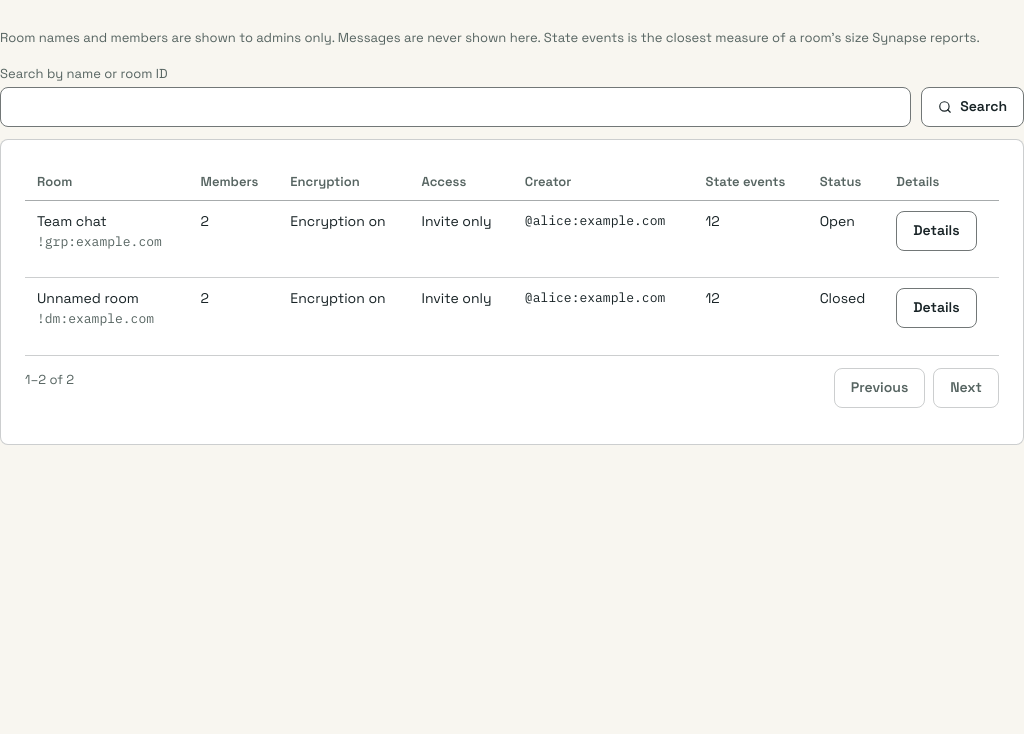
Test: Rooms › shows and follows the running job after a refused change
The image size is (1024, 734).
Click the button with aria-label "Details for Team chat" at (936,230), box [896,210,977,250]
(page scrolled)
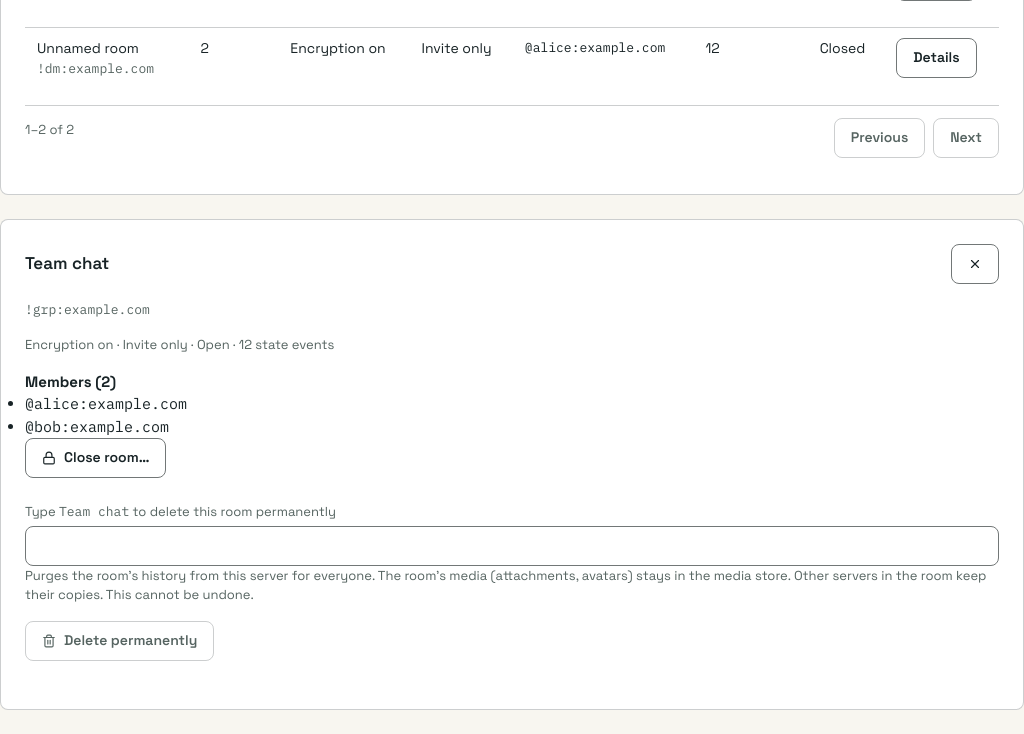
Check: the list named "Members" is shown, box [25,394,187,436]
Type "Team chat" into the field labelled "Type Team chat to delete this room permanently" at (512,546), box [25,526,999,566]
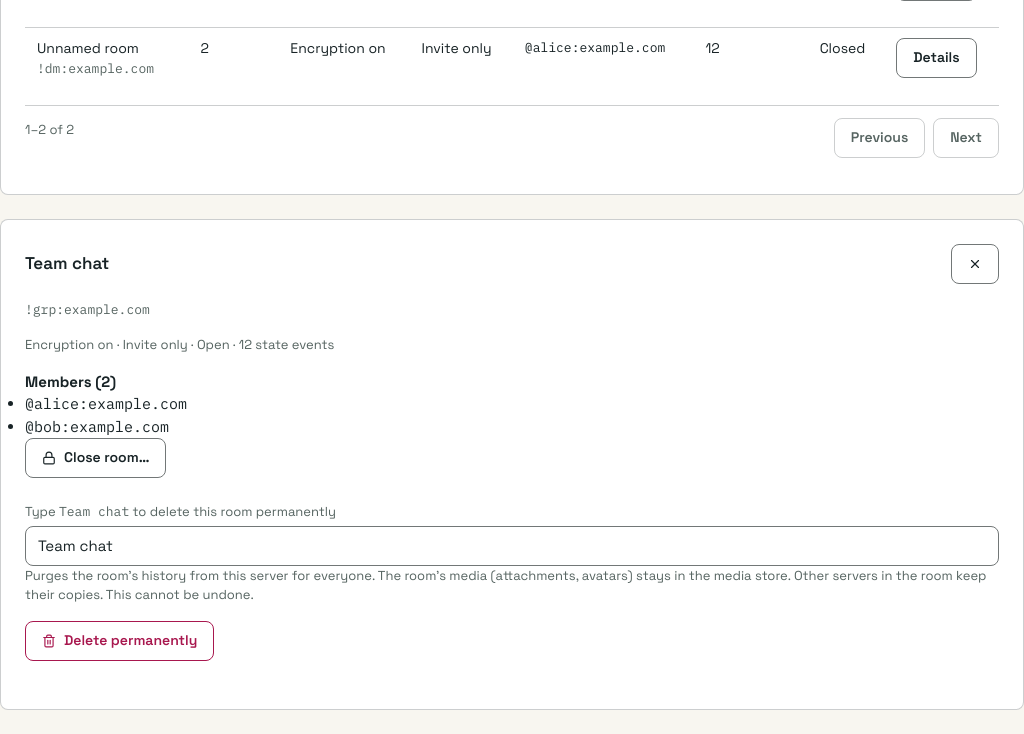
Click the button "Delete permanently" at (120,640), box [25,620,214,660]
(page scrolled)
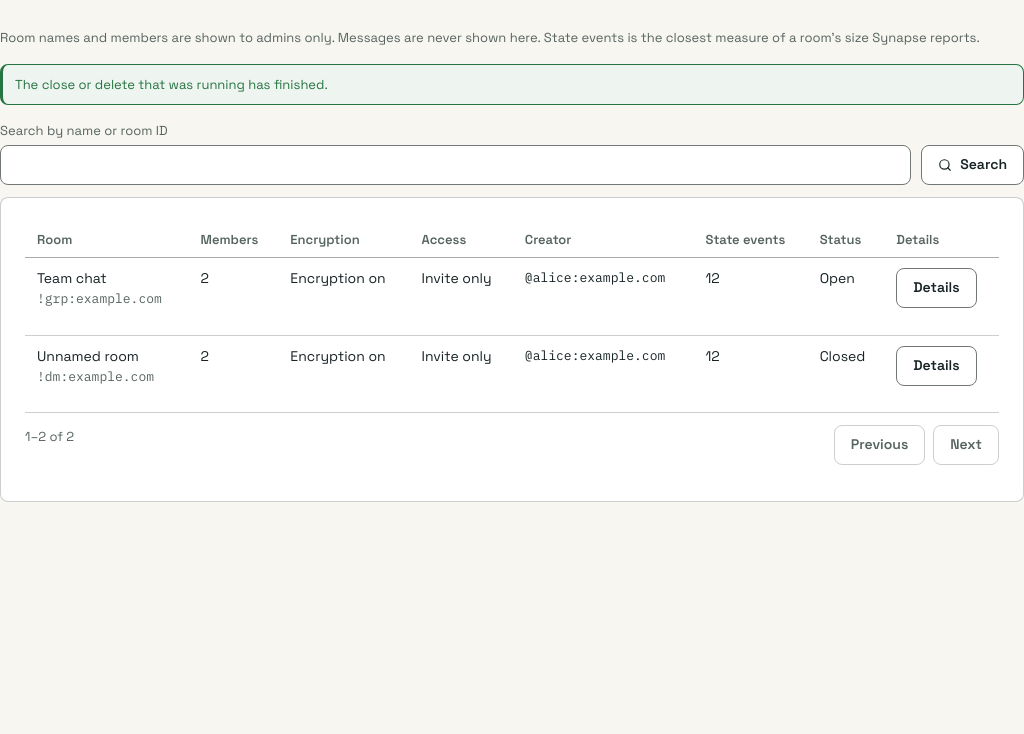
Check: the text "The close or delete that was running has finished." is shown, box [15,74,328,94]
